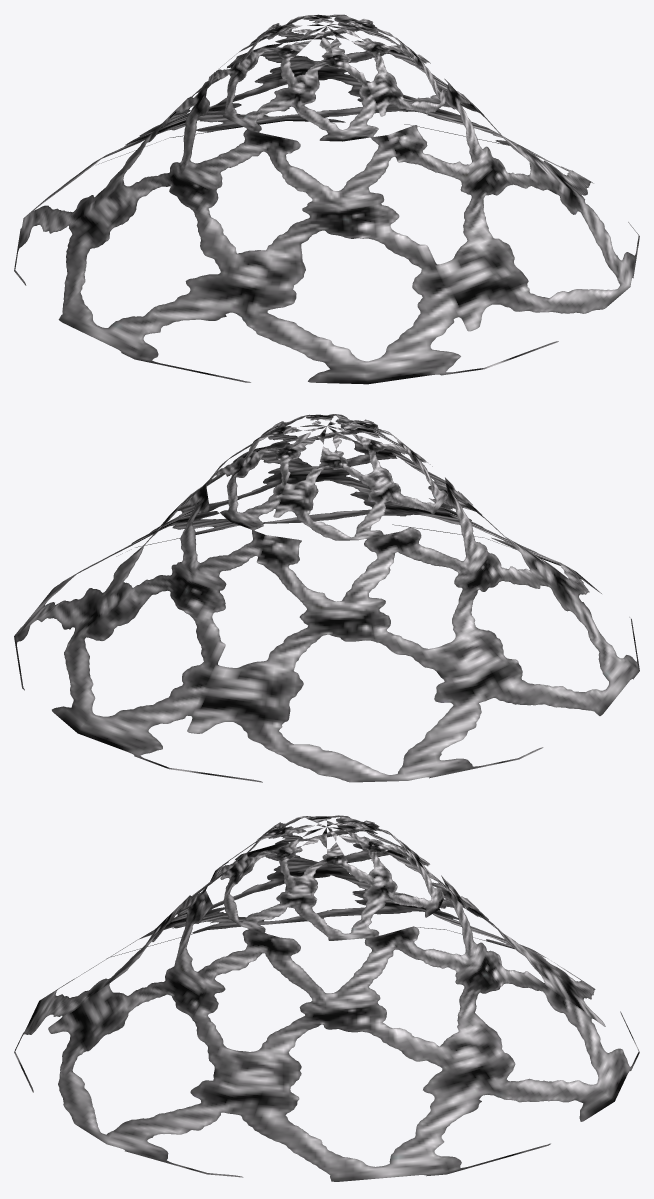
File: net01.FBX
3 views of the same model, one above another, from view 1: azimuth 30°, elevation 25°; view 2: azimuth 150°, elevation 25°; view 3: azimuth 270°, elevation 25° (orthographic).
Visible parts, largest first — view 1: net01; view 2: net01; view 3: net01.
Boxes of the visible parts, <box> form: net01: <box>14,14,639,384</box>; net01: <box>14,414,639,782</box>; net01: <box>14,815,639,1181</box>.
Size of the model in its own units: 5.08 by 2.02 by 5.08.
